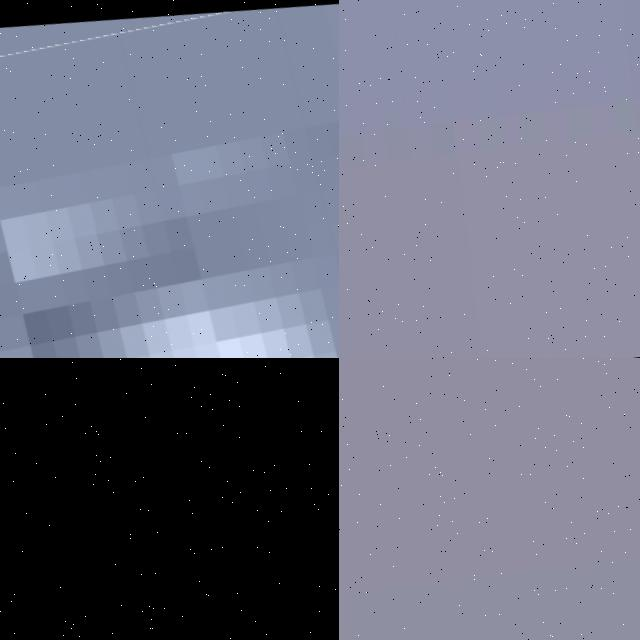0: (0, 0, 339, 358)
drone: (0, 358, 339, 640)
